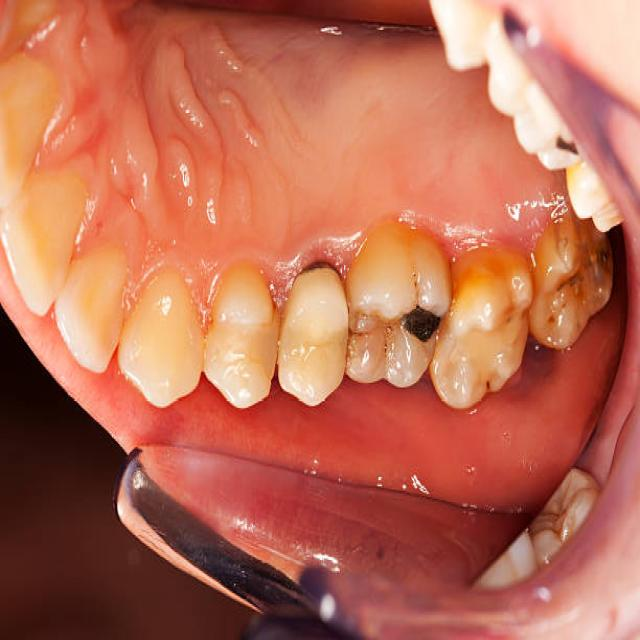caries: (399, 294, 440, 355), (296, 244, 346, 291), (550, 130, 584, 166)
